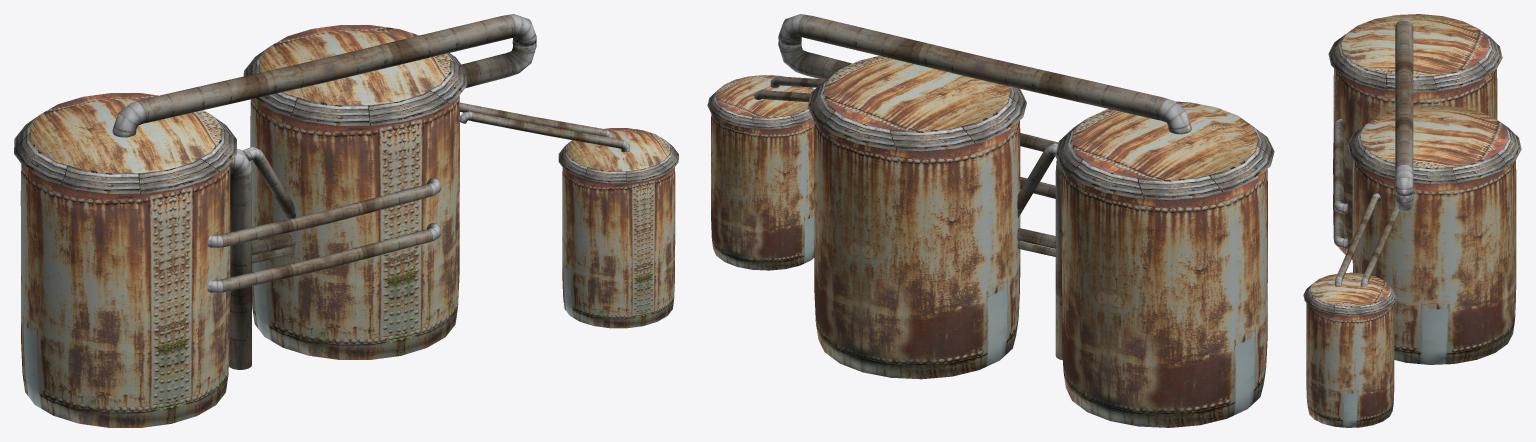
Rendered from industrial13.obj.
3 renders of one model, left to right at view 1: azimuth 30°, elevation 25°; view 2: azimuth 150°, elevation 25°; view 3: azimuth 270°, elevation 25°, orthographic. The views are drawn at different scales.
Visible parts, largest first — view 1: industrial13; view 2: industrial13; view 3: industrial13.
Boxes of the visible parts, box(x1,y1,x2,y2) form: industrial13: box(14, 14, 678, 427); industrial13: box(707, 14, 1274, 427); industrial13: box(1303, 14, 1521, 427).
Bounding box in the file's own units: 440 × 201 × 179.
Materials: 2 (2 with a texture image).
